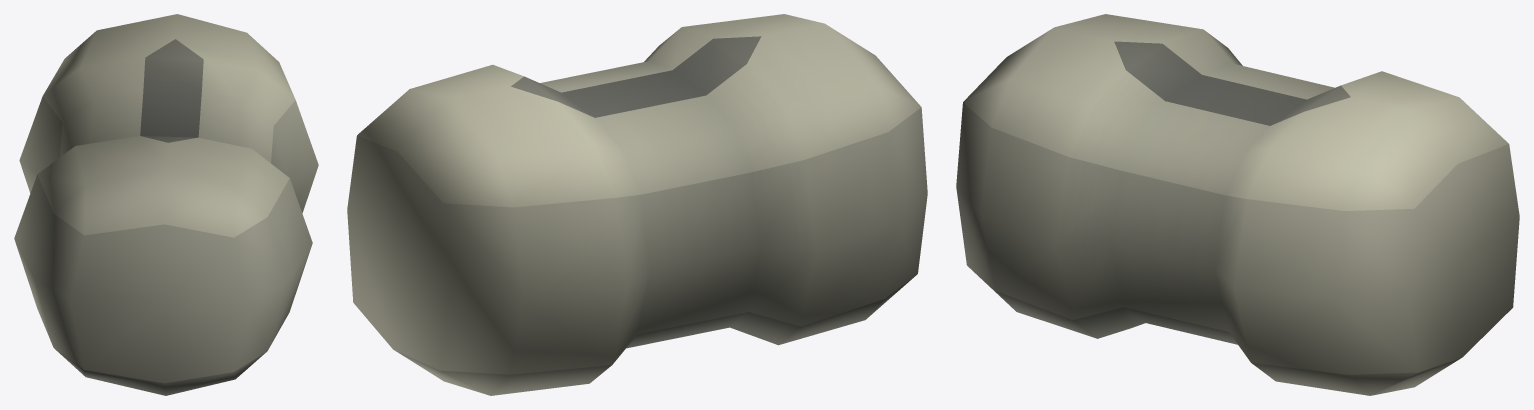
Rendered from deco_bone_2.fbx.
The picture shows the model from 3 angles, left to right: view 1: azimuth 30°, elevation 25°; view 2: azimuth 150°, elevation 25°; view 3: azimuth 270°, elevation 25°; orthographic projection. The views are drawn at different scales.
Visible parts, largest first — view 1: deco_bone_2; view 2: deco_bone_2; view 3: deco_bone_2.
Part boxes in pixels (box(x1,y1,x2,y2)): deco_bone_2: box(14, 14, 318, 395); deco_bone_2: box(347, 14, 927, 395); deco_bone_2: box(956, 14, 1519, 395).
Bounding box in the file's own units: 28.21 × 18.52 × 33.3.
